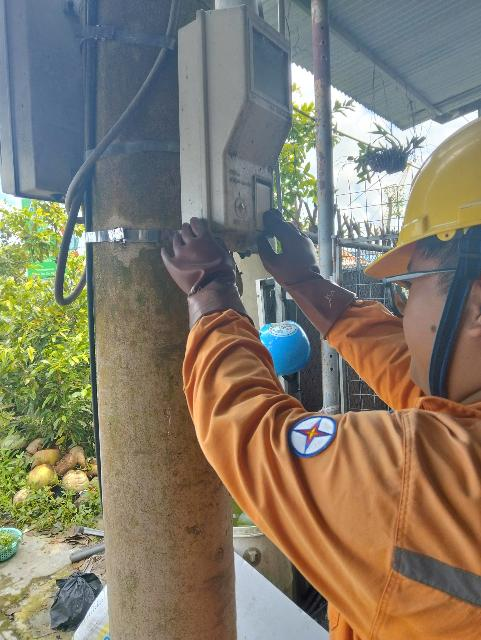gloves: (119, 204, 259, 332), (236, 191, 362, 331)
helmet: (341, 112, 481, 291)
